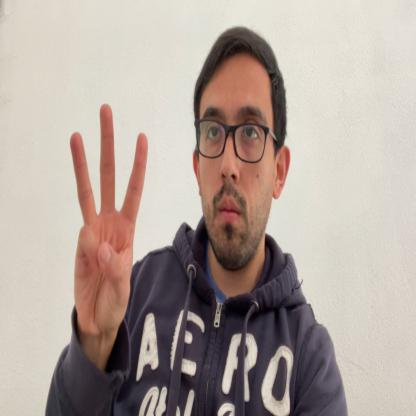W: (70, 102, 148, 347)
